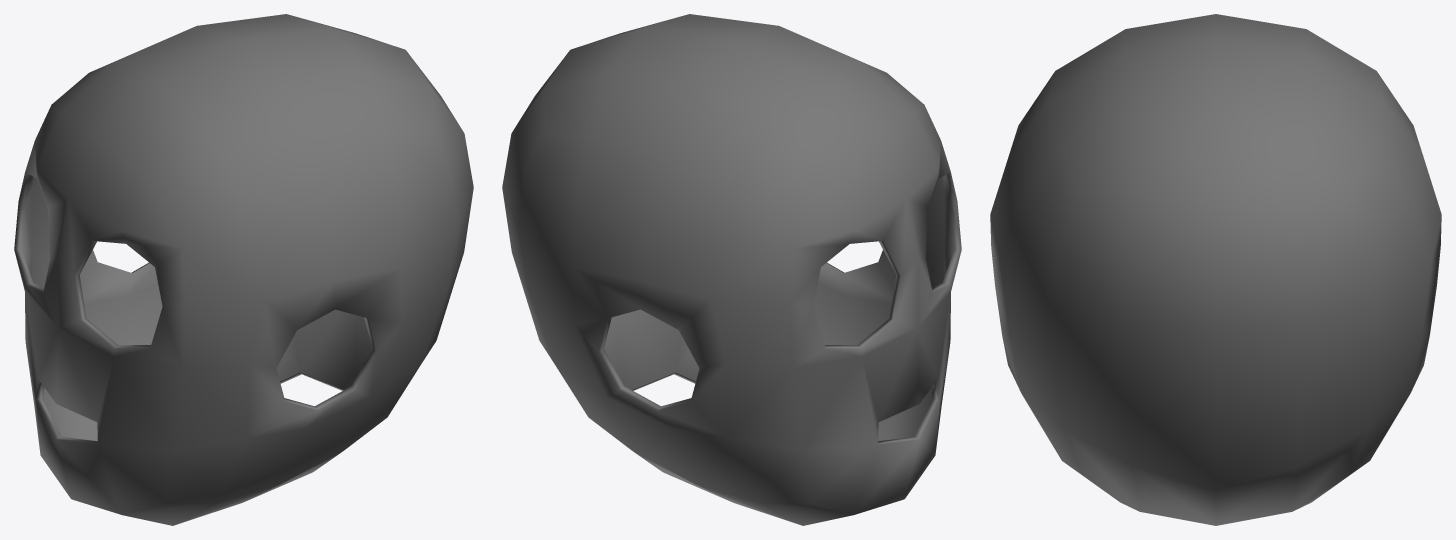
Rendered from Mask.fbx.
The picture shows the model from 3 angles, left to right: view 1: azimuth 30°, elevation 25°; view 2: azimuth 150°, elevation 25°; view 3: azimuth 270°, elevation 25°; orthographic projection. The views are drawn at different scales.
Visible parts, largest first — view 1: Mask; view 2: Mask; view 3: Mask.
Boxes of the visible parts, x1=… form: Mask: x1=14, y1=14, x2=473, y2=525; Mask: x1=502, y1=14, x2=961, y2=525; Mask: x1=990, y1=14, x2=1441, y2=525.
Bounding box in the file's own units: 0.9057 × 0.8158 × 0.9695.
